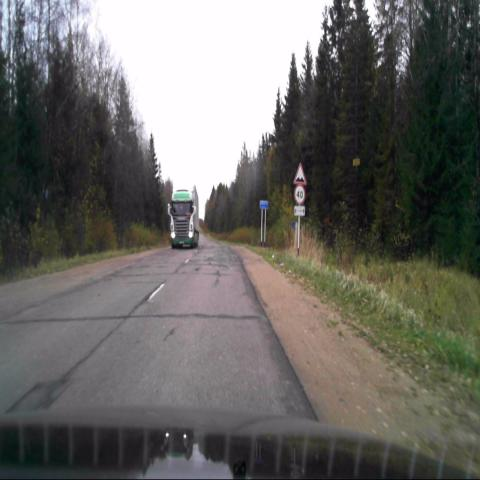1_16: (293, 163, 307, 185)
3_24: (294, 184, 306, 205)
